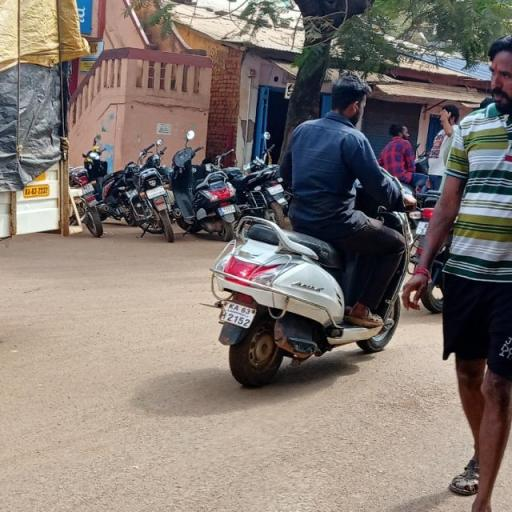bike: (204, 70, 427, 387)
numberplate: (217, 298, 262, 336)
withouthelmet: (330, 77, 377, 124)
